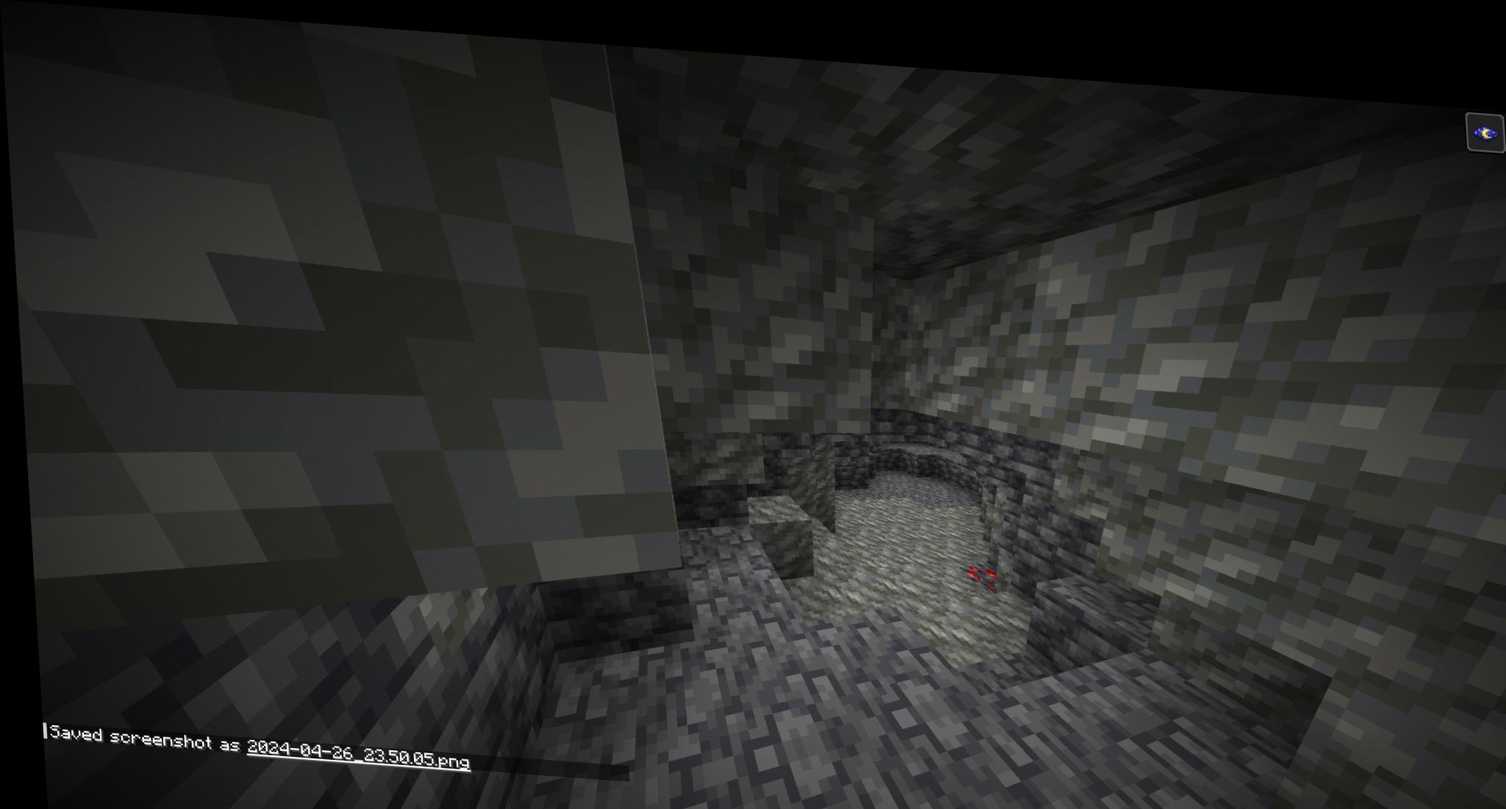redstone ore: (942, 537, 998, 589)
